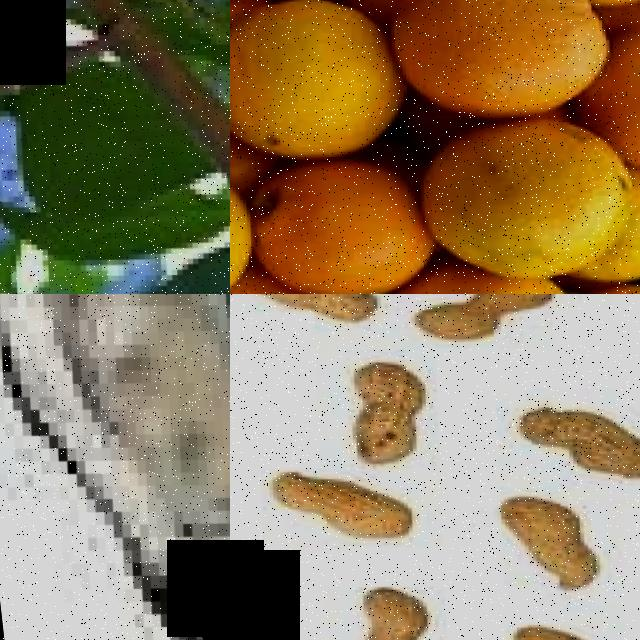orange: (406, 116, 630, 294), (230, 0, 396, 172), (378, 0, 591, 131), (230, 152, 422, 294), (578, 23, 640, 193)
oysters: (0, 294, 230, 640)
peanuts: (247, 463, 410, 561), (472, 496, 595, 611), (500, 401, 640, 502), (330, 358, 431, 480), (401, 294, 563, 358), (230, 294, 385, 339), (335, 584, 431, 640)
